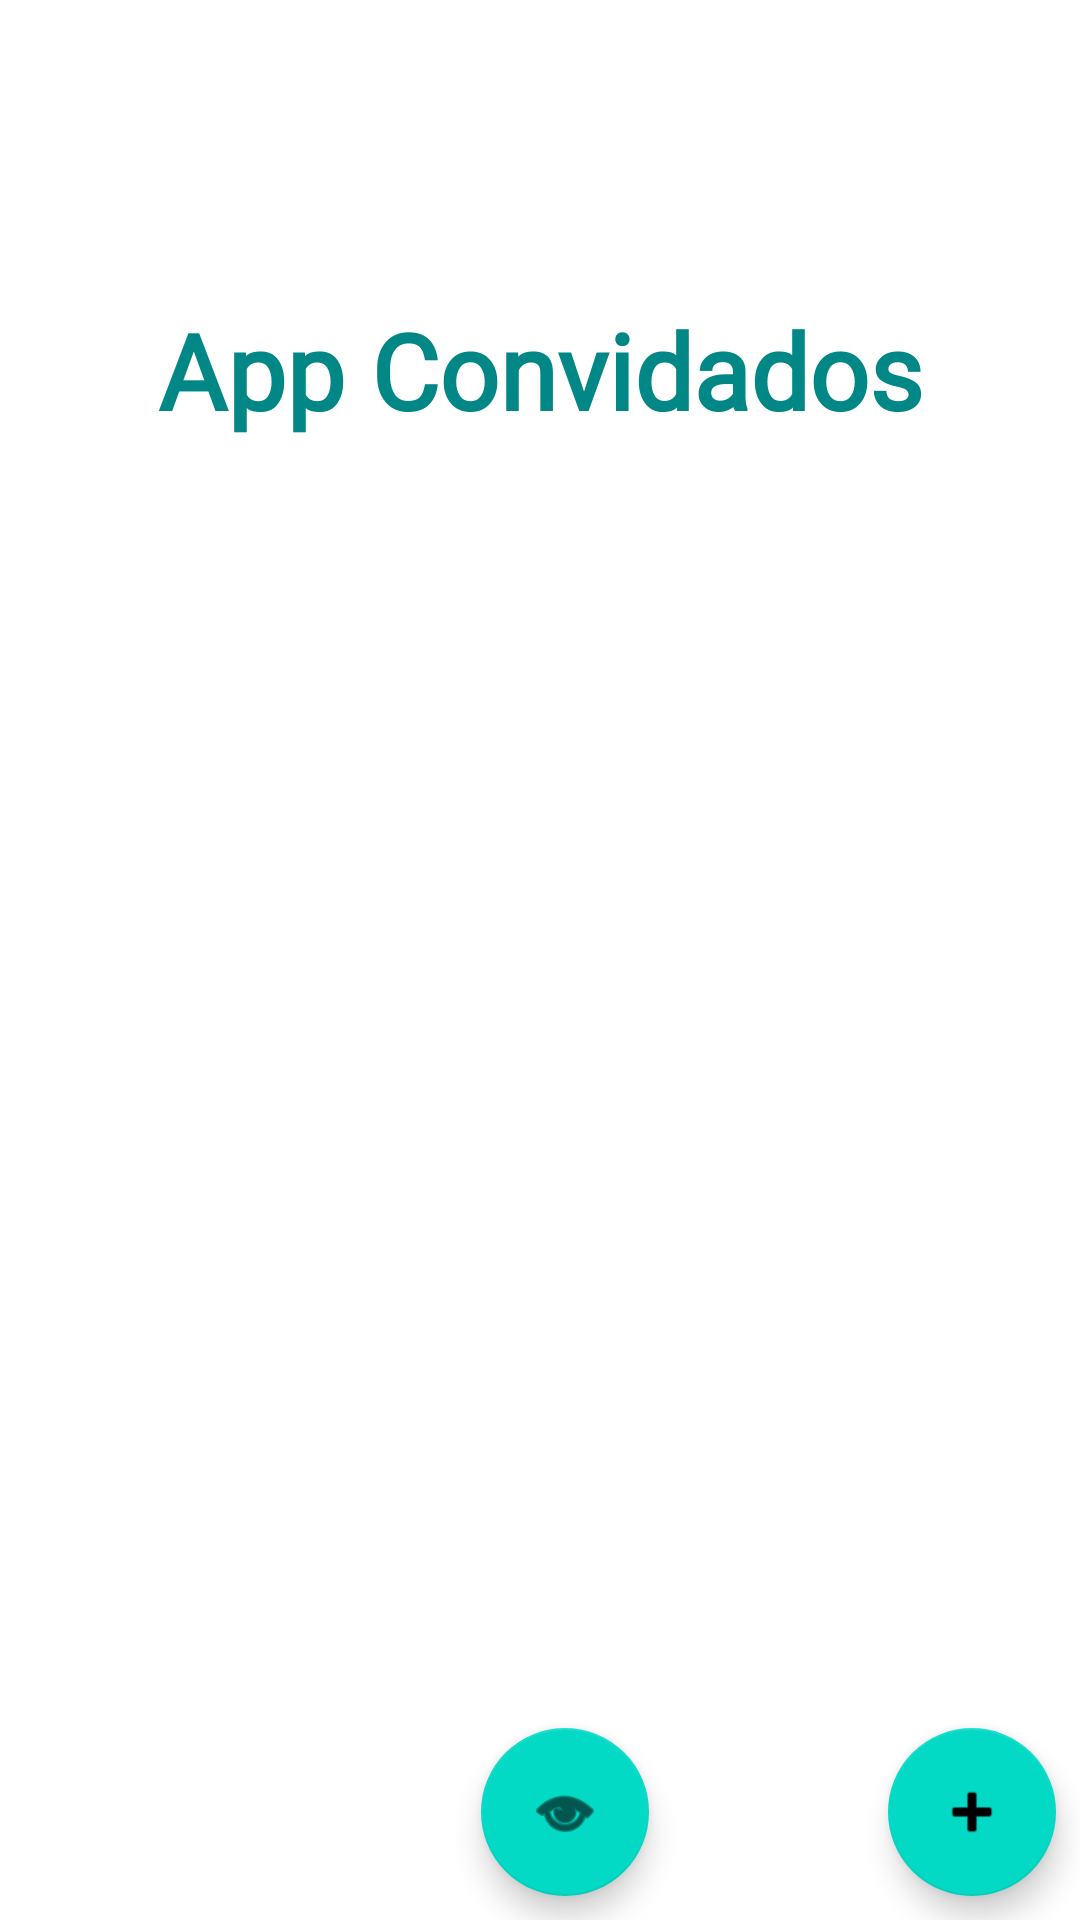

Screen size 1080px x 1920px. Icon name, then its center in pixels as [x,y]:
add: [972,1812]
view: [565,1812]
